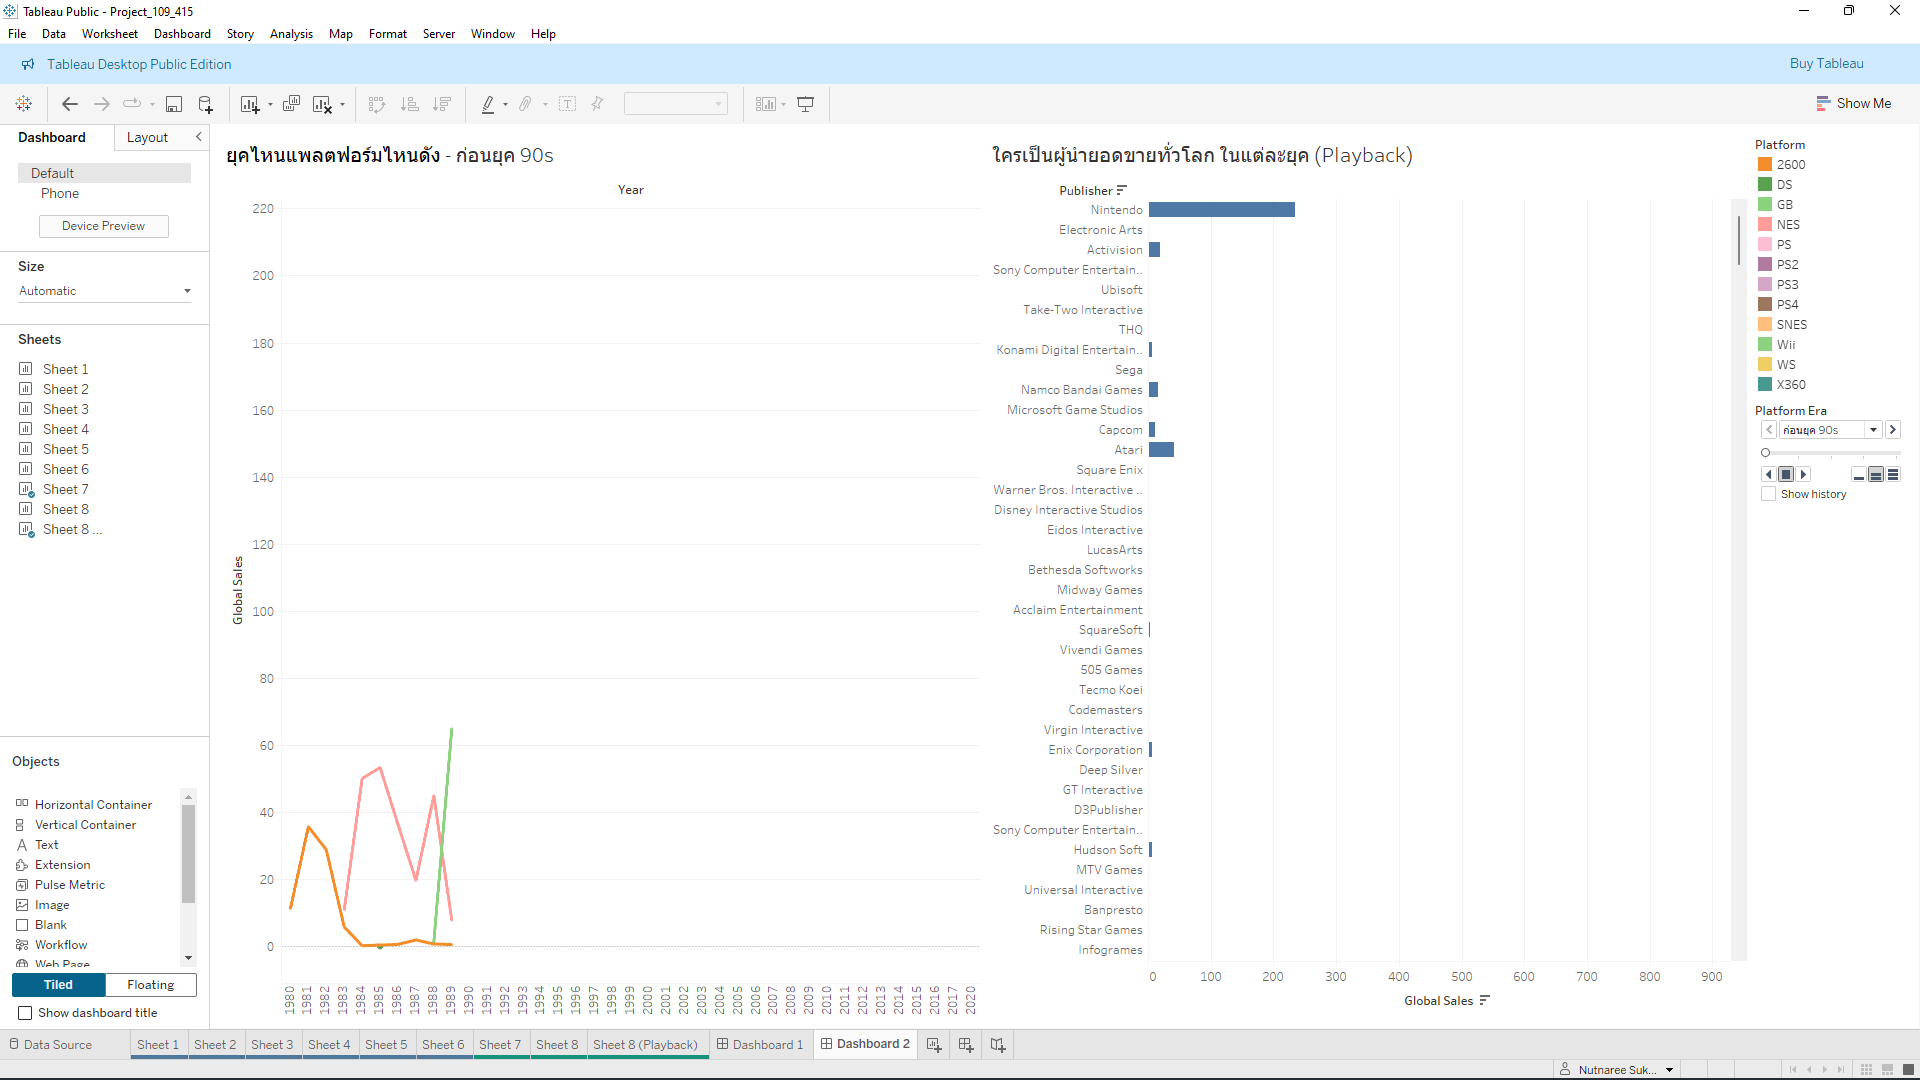

The dashboard page shown, as its layout file describes it:
{"tool":"tableau","page":{"name":"Dashboard 2","canvas":[1000,1000],"units":"permille","ordinal":1},"visuals":[{"type":"worksheet","title":"Sheet 7","mark":"Line","rows":["Global_Sales"],"cols":["Year"],"box":[4.7,8.8,448.5,982.3]},{"type":"worksheet","title":"Sheet 8 (Playback)","mark":"Automatic","rows":["Publisher"],"cols":["Global_Sales"],"box":[453.2,8.8,448.5,982.3]},{"type":"legend","title":"Sheet 7","param":"[federated.082d6w301ytw0d1fbyf6z1rj0ktg].[none:Platform:nk]","box":[901.7,8.8,93.6,294.2]},{"type":"currpage","title":"Sheet 7","box":[901.7,303.1,93.6,121.7]}]}

Visuals, with their boxes on the dashboard's canvas, which has no fixed pixel size, in thousandths of its width and height (x1, y1, x2, y2). These are canvas units, not pixel positions in the 1920x1080 screenshot, which may show the page scaled, cropped or inside an application window:
"Sheet 7" worksheet (Line marks): [5, 9, 453, 991]
"Sheet 8 (Playback)" worksheet: [453, 9, 902, 991]
"Sheet 7" legend: [902, 9, 995, 303]
"Sheet 7" currpage: [902, 303, 995, 425]
